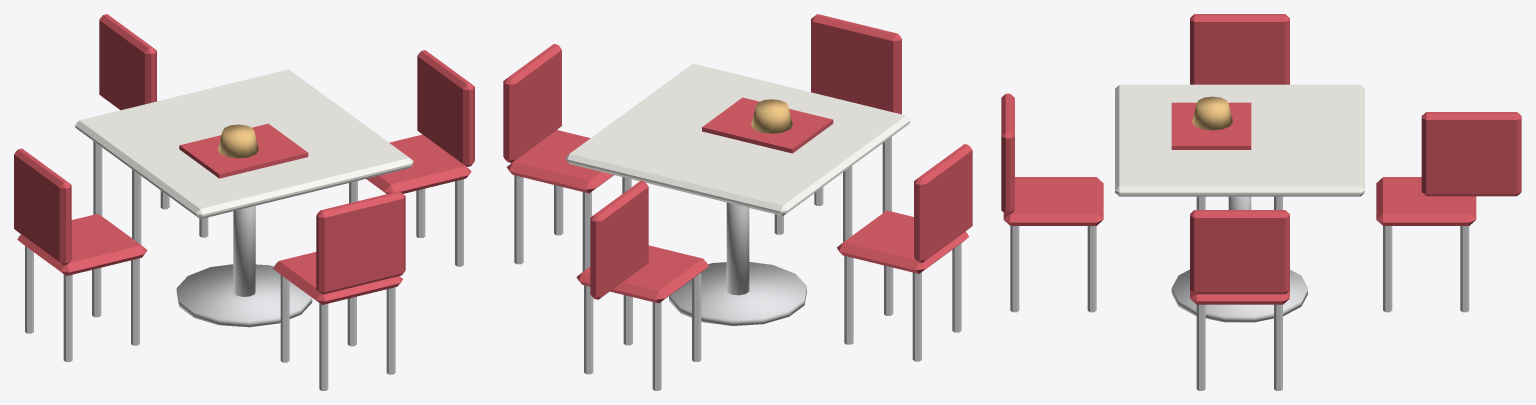
The model's file is table-chicken.glb.
3 renders of one model, left to right at view 1: azimuth 30°, elevation 25°; view 2: azimuth 150°, elevation 25°; view 3: azimuth 270°, elevation 25°, orthographic. The views are drawn at different scales.
Parts seen in each view (by area): view 1: table-chicken; view 2: table-chicken; view 3: table-chicken.
Part boxes in pixels (box(x1,y1,x2,y2)): table-chicken: box(14, 14, 474, 390); table-chicken: box(503, 14, 972, 390); table-chicken: box(1001, 14, 1521, 390).
Size of the model in its own units: 2.1 by 0.88 by 2.29.
